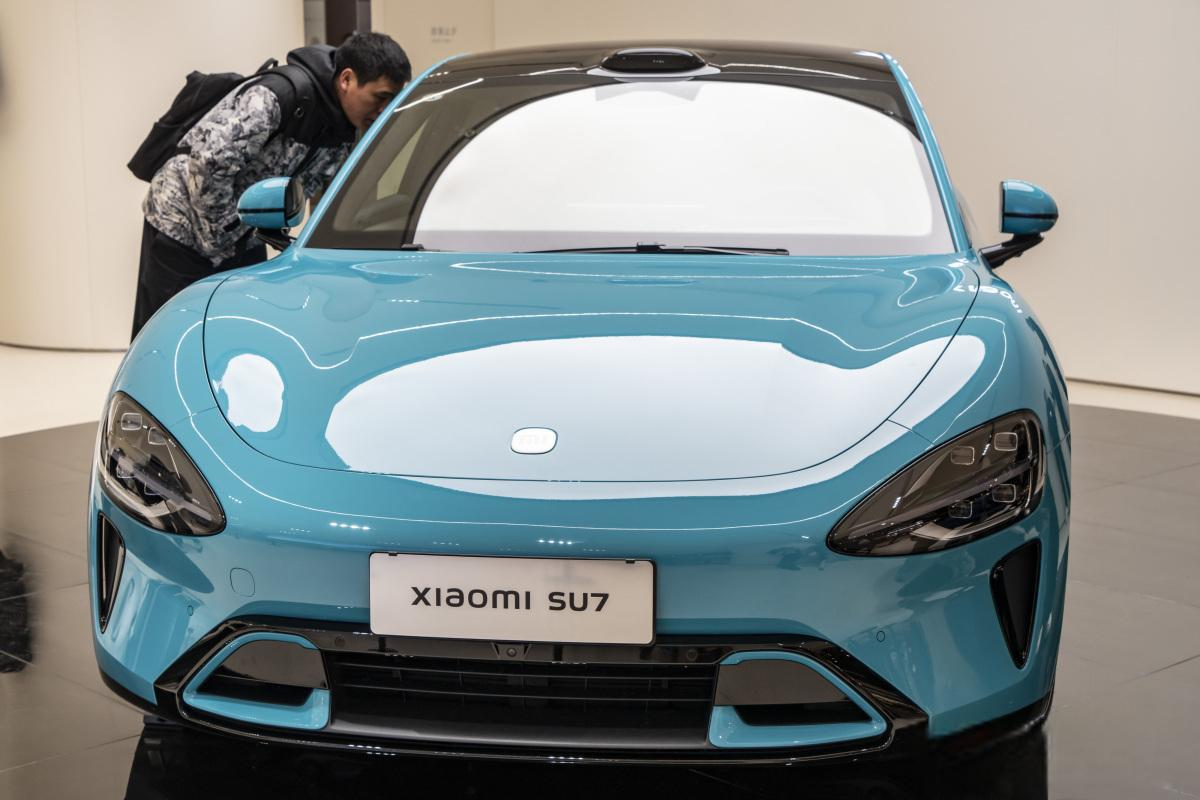su7: (89, 40, 1061, 776)
